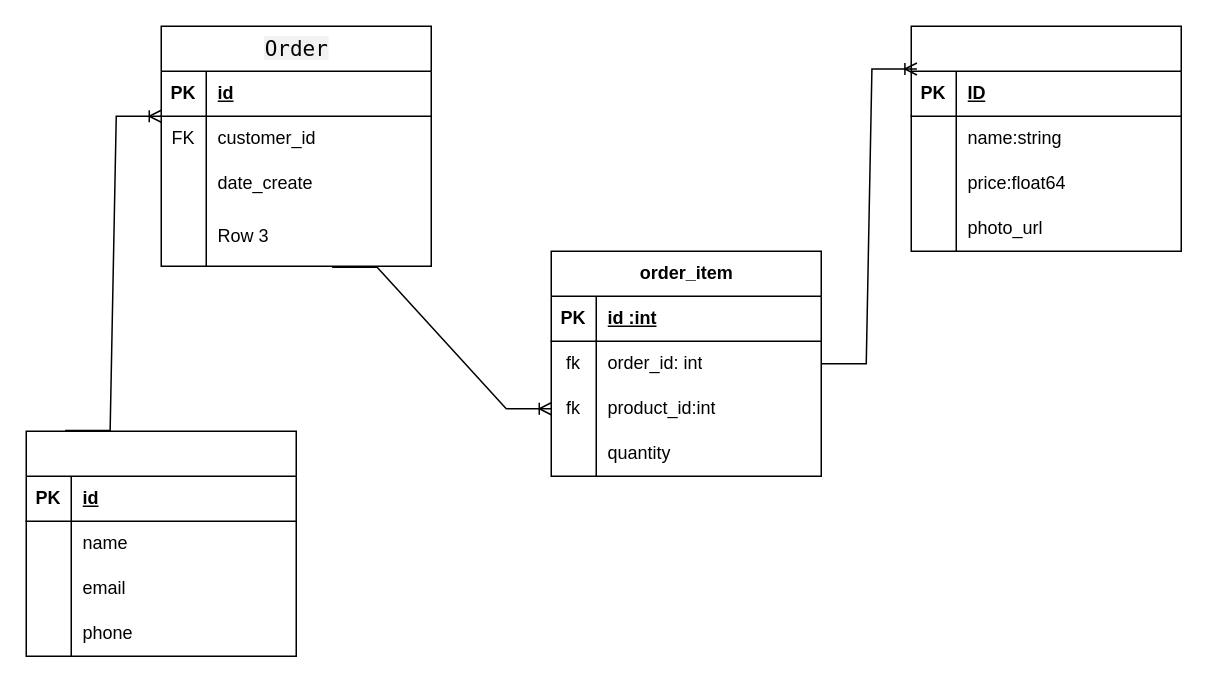
Image size: 1208x683. Some labels were removed from this diagram. Here are the shapes that lost their labels. From the top down, the box of each, then its label:
(910, 25, 1181, 251): product
(25, 430, 296, 656): custumer
